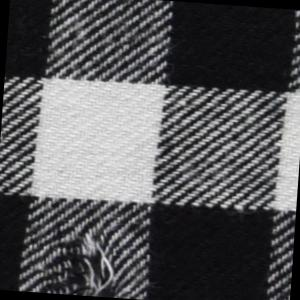Damage: (34, 227, 130, 300)
